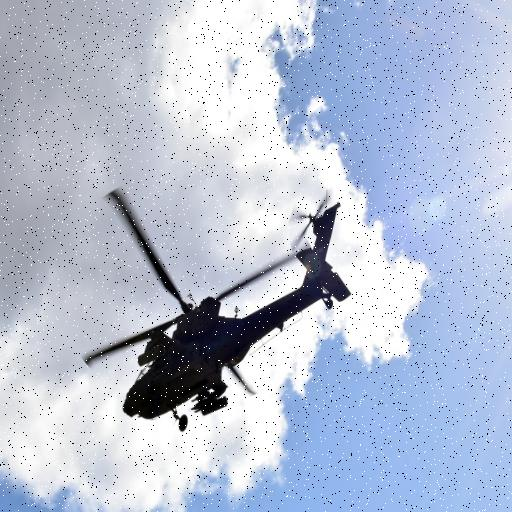helicopter: (54, 148, 380, 477)
